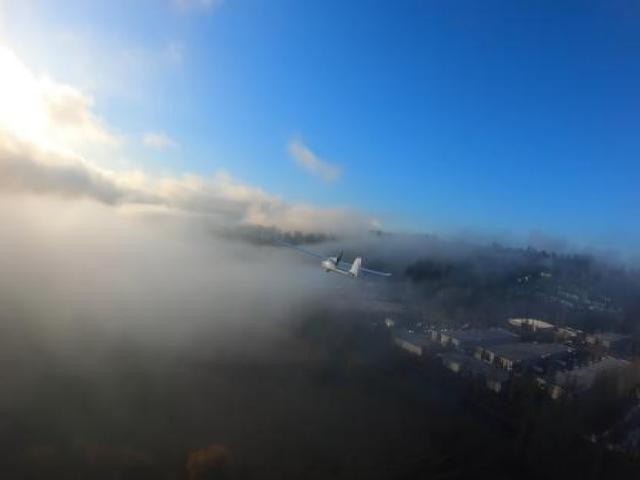uav: (264, 221, 399, 305)
